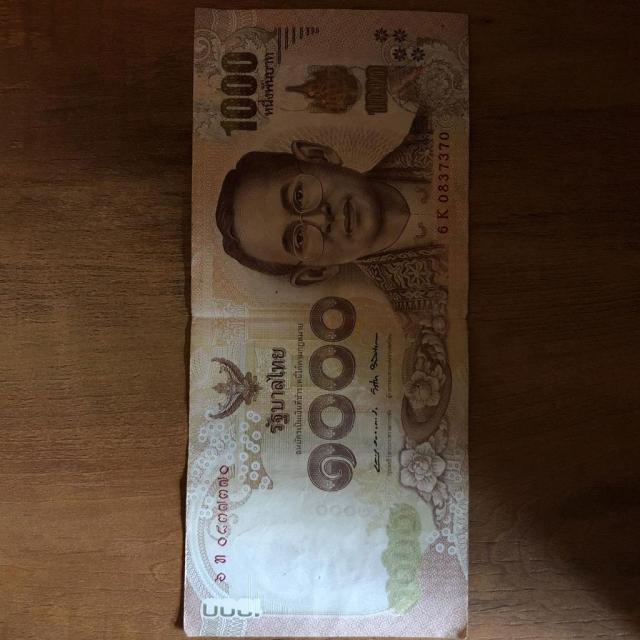THAI1000: (178, 8, 471, 639)
